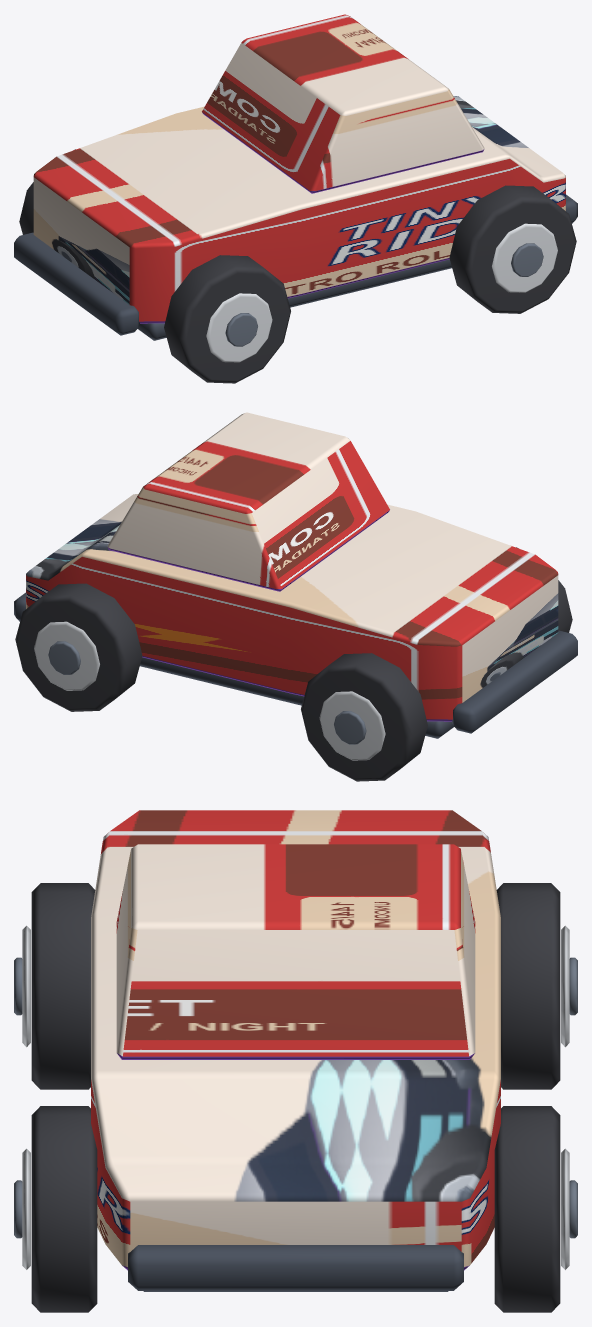
3 views of the same model, one above another, from view 1: azimuth 30°, elevation 25°; view 2: azimuth 150°, elevation 25°; view 3: azimuth 270°, elevation 25° (orthographic). The views are drawn at different scales.
Parts seen in each view (by area): view 1: RR-05_connected_shell, RR-05_cabin, Tire.002, Tire, front bumper, Rim, Rim.002, underbody, Hub.002, Hub, Tire.001; view 2: RR-05_connected_shell, RR-05_cabin, Tire.003, Tire.001, front bumper, Rim.001, Rim.003, underbody, Hub.003, Hub.001, Tire; view 3: RR-05_connected_shell, RR-05_cabin, rear bumper, Tire.002, Tire.003, Tire, Tire.001, Rim, Rim.001, Rim.002, Rim.003.
Boxes of the visible parts, x1=… form: RR-05_connected_shell: x1=33, y1=96, x2=565, y2=323; RR-05_cabin: x1=202, y1=14, x2=484, y2=193; Tire.002: x1=449, y1=185, x2=576, y2=313; Tire: x1=164, y1=255, x2=290, y2=383; front bumper: x1=14, y1=232, x2=139, y2=335; Rim: x1=206, y1=293, x2=272, y2=362; Rim.002: x1=492, y1=223, x2=557, y2=292; underbody: x1=138, y1=259, x2=451, y2=340; Hub.002: x1=511, y1=243, x2=543, y2=276; Hub: x1=225, y1=313, x2=257, y2=346; Tire.001: x1=19, y1=149, x2=75, y2=234; RR-05_connected_shell: x1=26, y1=494, x2=558, y2=721; RR-05_cabin: x1=107, y1=412, x2=389, y2=591; Tire.003: x1=15, y1=583, x2=142, y2=711; Tire.001: x1=301, y1=653, x2=427, y2=781; front bumper: x1=452, y1=630, x2=577, y2=733; Rim.001: x1=319, y1=691, x2=385, y2=760; Rim.003: x1=34, y1=621, x2=99, y2=690; underbody: x1=140, y1=657, x2=453, y2=738; Hub.003: x1=48, y1=641, x2=80, y2=674; Hub.001: x1=334, y1=711, x2=366, y2=744; Tire: x1=516, y1=547, x2=572, y2=632; RR-05_connected_shell: x1=91, y1=810, x2=500, y2=1270; RR-05_cabin: x1=116, y1=844, x2=475, y2=1059; rear bumper: x1=128, y1=1245, x2=463, y2=1290; Tire.002: x1=31, y1=1106, x2=97, y2=1312; Tire.003: x1=494, y1=1106, x2=560, y2=1312; Tire: x1=31, y1=883, x2=95, y2=1089; Tire.001: x1=496, y1=883, x2=560, y2=1089; Rim: x1=22, y1=925, x2=30, y2=1047; Rim.001: x1=561, y1=925, x2=569, y2=1047; Rim.002: x1=22, y1=1148, x2=30, y2=1269; Rim.003: x1=561, y1=1148, x2=569, y2=1269.
Size of the model in its own units: 339 by 151 by 223.
